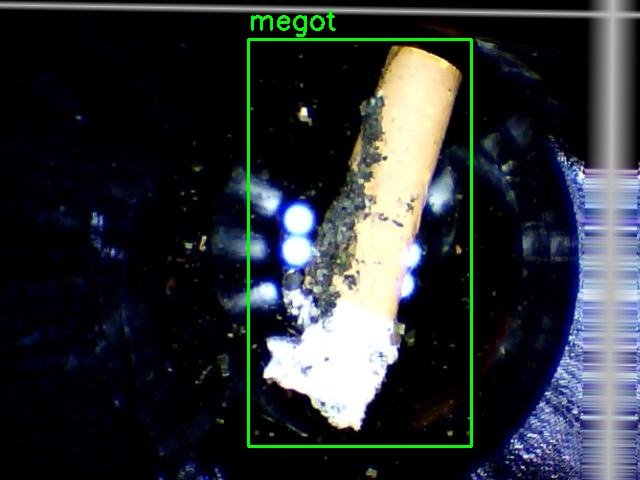megot: (248, 39, 471, 446)
